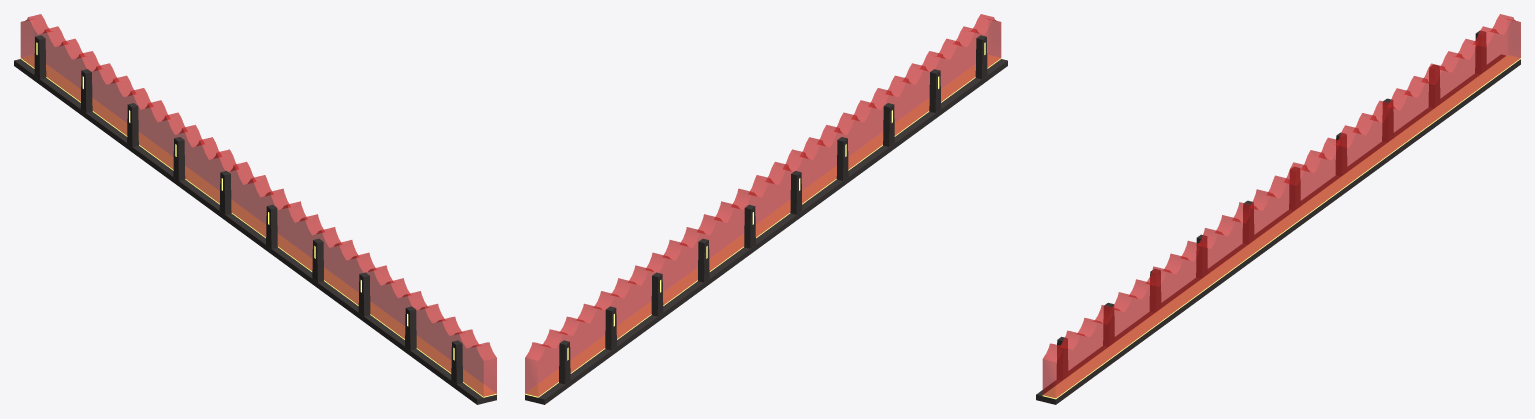
Rendered from bordure_droite_Modele.fbx.
3 views of the same model, side by side, from view 1: azimuth 30°, elevation 25°; view 2: azimuth 150°, elevation 25°; view 3: azimuth 330°, elevation 25° (orthographic).
Visible parts, largest first — view 1: bordure_droite_Modele; view 2: bordure_droite_Modele; view 3: bordure_droite_Modele.
Boxes of the visible parts, left/top/right/bottom form: bordure_droite_Modele: left=14, top=14, right=496, bottom=404; bordure_droite_Modele: left=525, top=14, right=1007, bottom=404; bordure_droite_Modele: left=1036, top=14, right=1520, bottom=404.
Bounding box in the file's own units: 0.374 × 0.9986 × 15.
